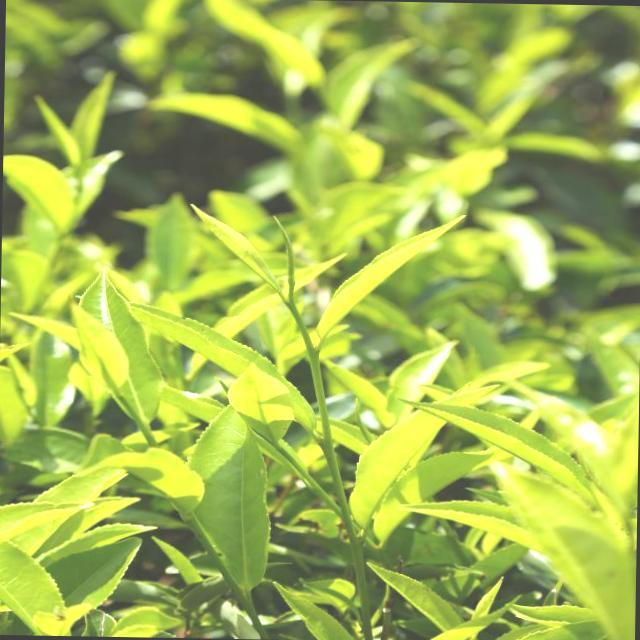Stem: (309, 353, 322, 380)
